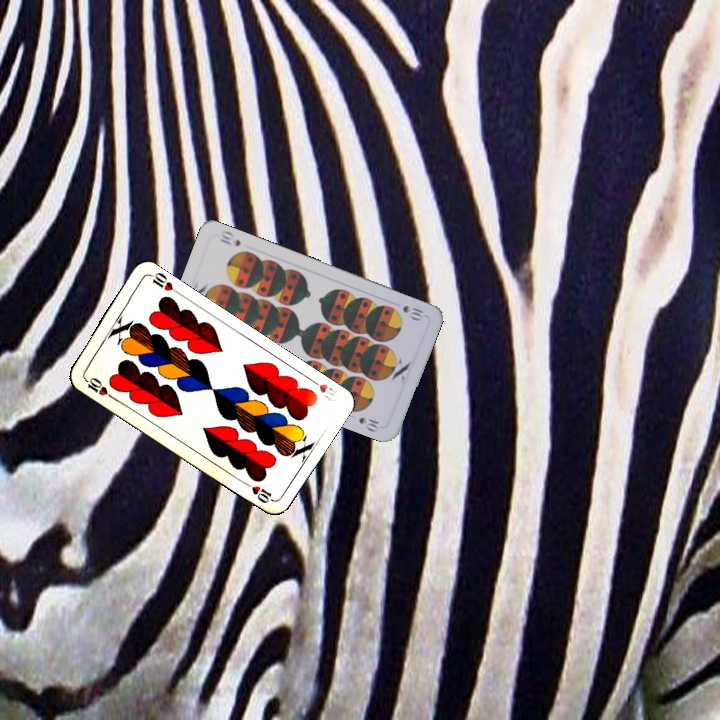H10: (305, 374, 340, 404), (80, 373, 116, 401)
S10: (399, 301, 426, 322)
